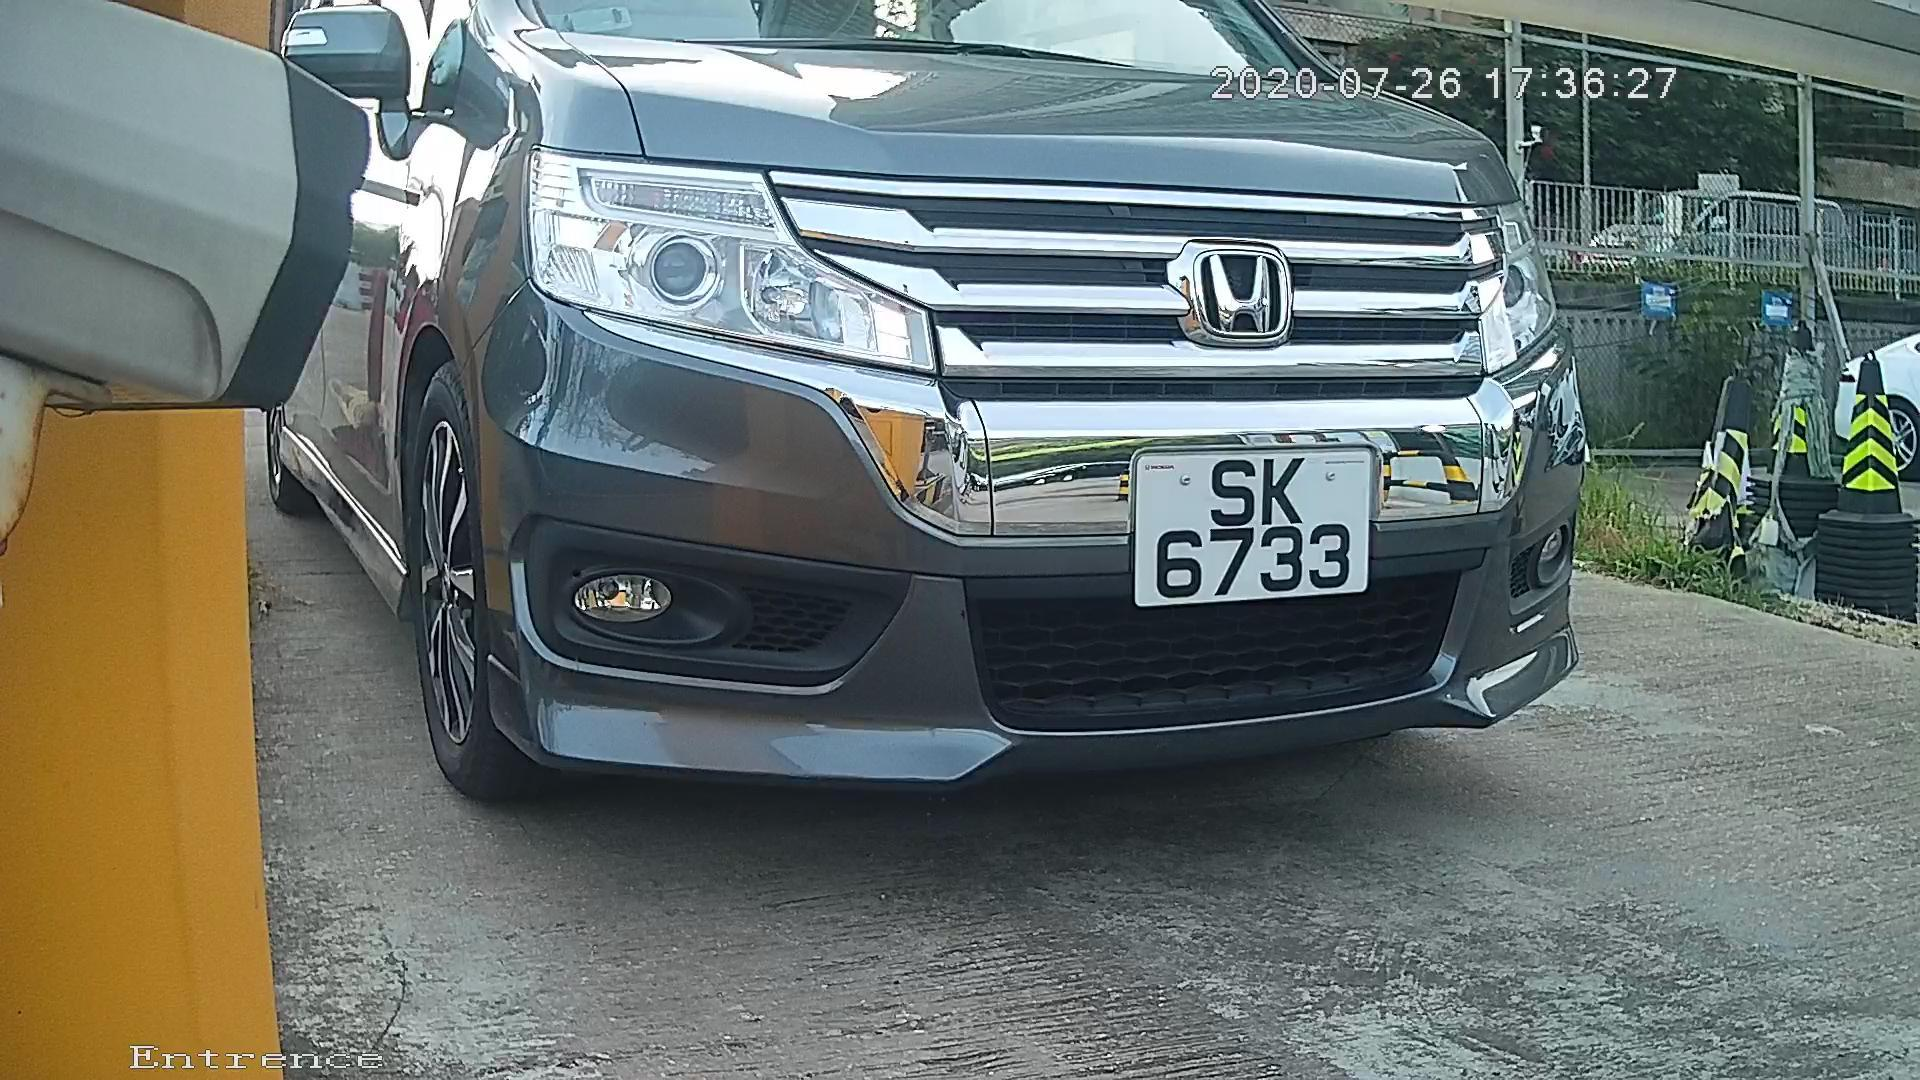privatecar: (171, 3, 1601, 843)
